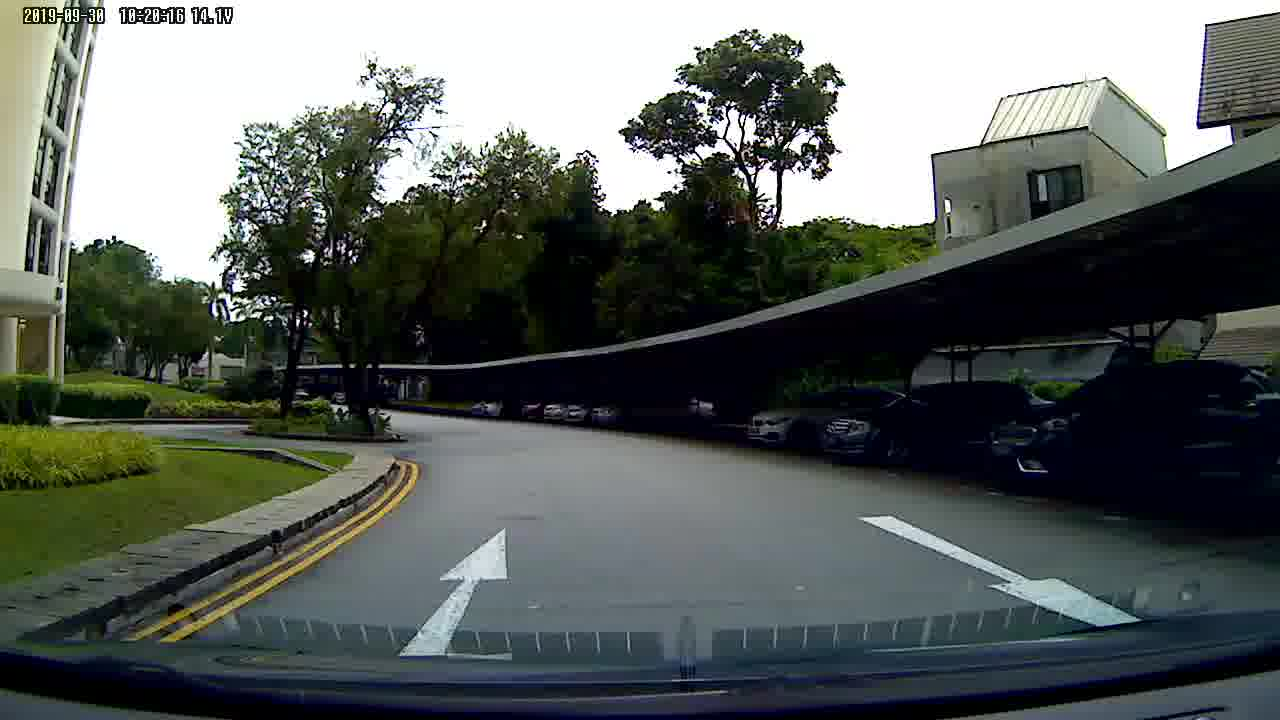car: (989, 360, 1280, 498), (818, 379, 985, 469)
